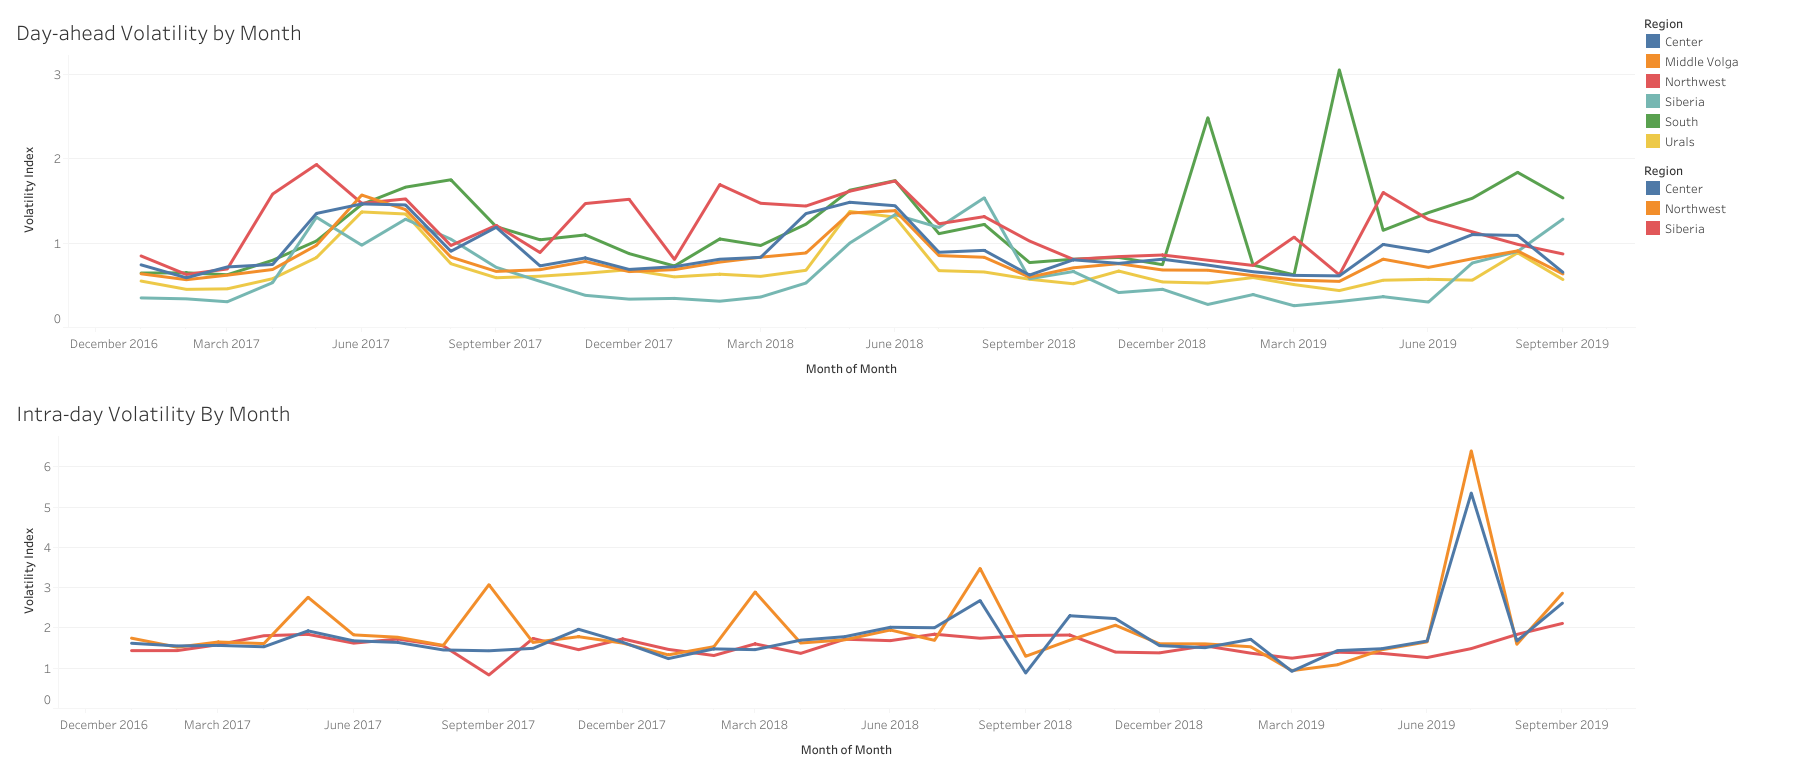

What the dashboard file says about the page in this screenshot:
{"tool":"tableau","page":{"name":"Dashboard 1","canvas":[1000,1000],"units":"permille","ordinal":0},"visuals":[{"type":"worksheet","title":"Sheet 1","mark":"Automatic","rows":["volatility_index"],"cols":["month"],"box":[4.1,6.8,909.3,493.2]},{"type":"legend","title":"Sheet 1","param":"[federated.1ofyf1b0hrd7kf1b59lzm074dguj].[none:region:nk]","box":[913.4,6.8,82.5,157.3]},{"type":"legend","title":"Sheet 2","param":"[federated.121jmtw1icwjbt1cwyzr80yp3v4g].[none:region:nk]","box":[913.4,164.1,82.5,93.2]},{"type":"worksheet","title":"Sheet 2","mark":"Automatic","rows":["volatility_index"],"cols":["month"],"box":[4.1,500,909.3,493.2]}]}

Visuals, with their boxes on the dashboard's canvas, which has no fixed pixel size, in thousandths of its width and height (x1, y1, x2, y2). These are canvas units, not pixel positions in the 1806x776 screenshot, which may show the page scaled, cropped or inside an application window:
"Sheet 1" worksheet: [x1=4, y1=7, x2=913, y2=500]
"Sheet 1" legend: [x1=913, y1=7, x2=996, y2=164]
"Sheet 2" legend: [x1=913, y1=164, x2=996, y2=257]
"Sheet 2" worksheet: [x1=4, y1=500, x2=913, y2=993]
